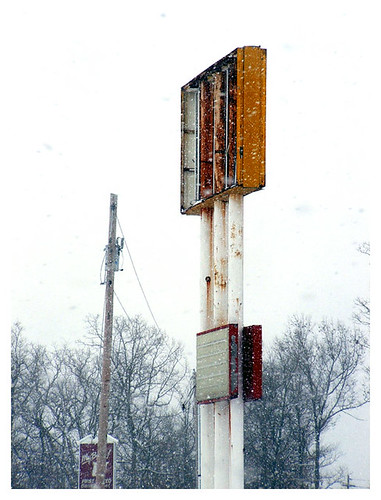sign: (168, 57, 277, 219)
vegetation: (14, 322, 364, 487)
